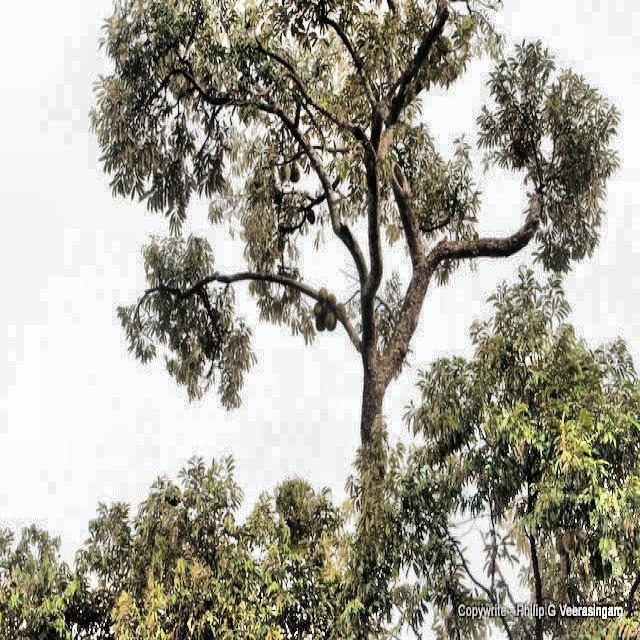arvore: (346, 219, 394, 640)
